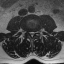CCS_normal: (30, 30, 32, 39)
LFS_stenosis: (34, 28, 37, 35)
LLS_stenosis: (32, 30, 34, 36)
RFS_severe_stenosis: (26, 29, 28, 34)
RLS_stenosis: (28, 30, 30, 36)
